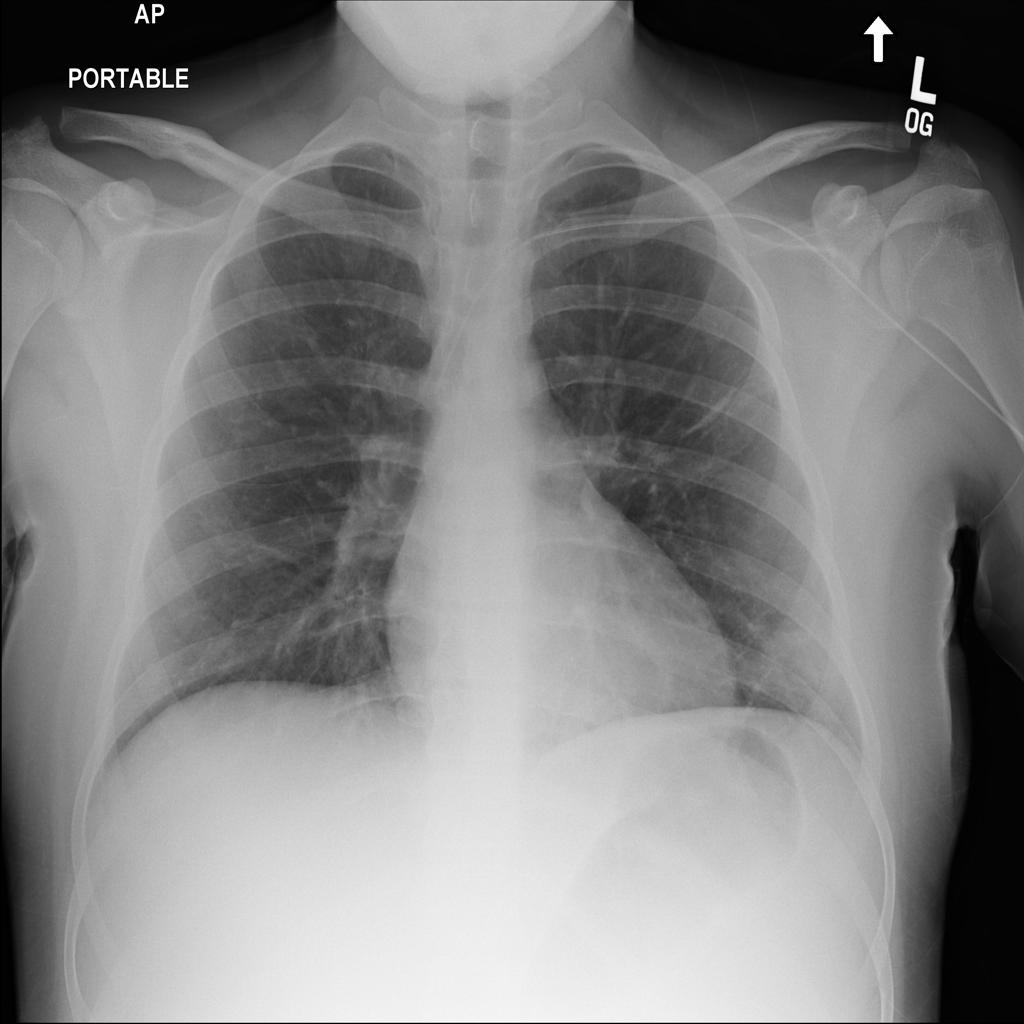nodule: (741, 609, 856, 717)
